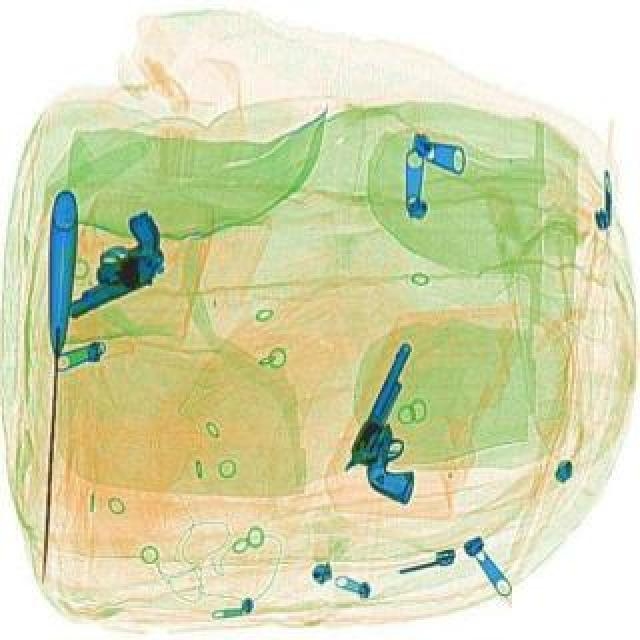gun: (334, 338, 470, 504), (36, 208, 180, 320)
knife: (28, 186, 80, 580)
